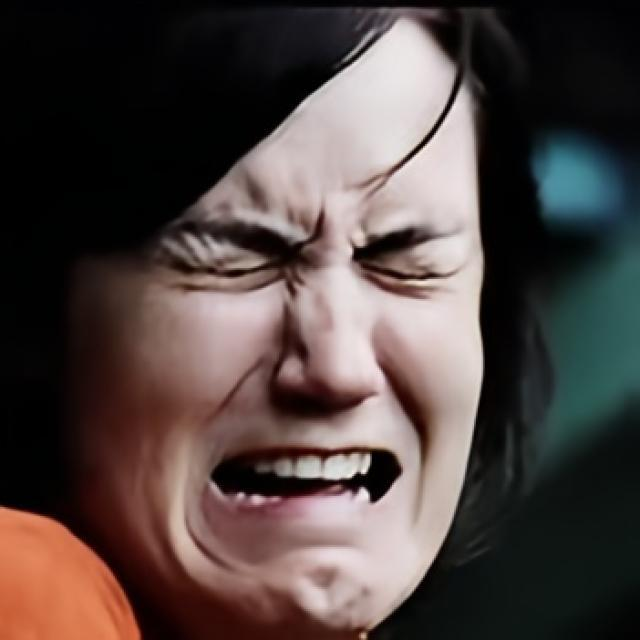sad: (62, 5, 485, 640)
